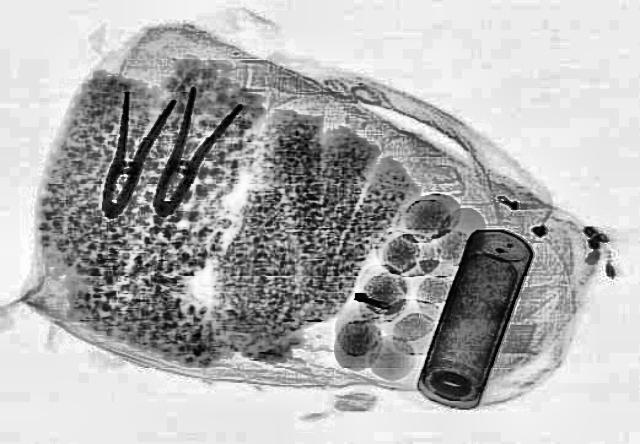Pliers: (130, 84, 246, 220), (82, 90, 176, 220)
